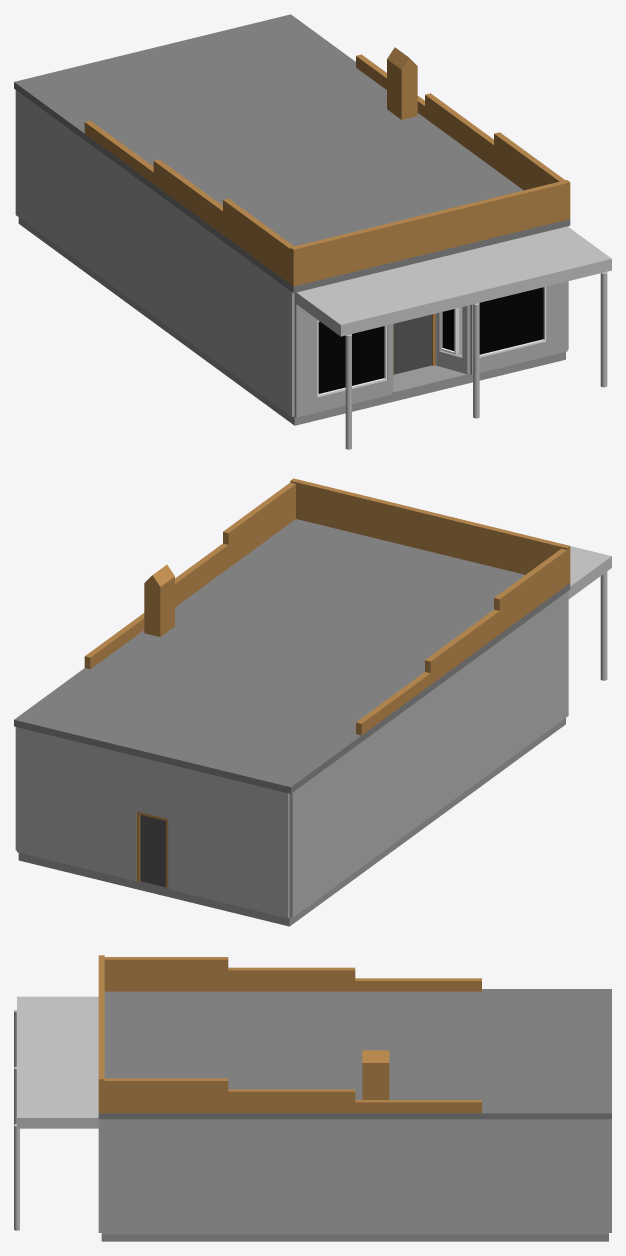
The model's file is building_phase_1b_iter_011.glb.
3 renders of one model, top to bottom at view 1: azimuth 30°, elevation 25°; view 2: azimuth 150°, elevation 25°; view 3: azimuth 270°, elevation 25°, orthographic. The views are drawn at different scales.
Parts seen in each view (by area): view 1: Roof, Wall_Left, Canopy_Roof, Parapet_Front, Wall_Front, Foundation, Front_Left_Window_Glass, Front_Right_Window_Glass, Parapet_Left_Level_1, Parapet_Right_Level_1, Parapet_Left_Level_2, Parapet_Right_Level_2 (+9 smaller); view 2: Roof, Wall_Left, Wall_Rear, Parapet_Front, Foundation, Parapet_Left_Level_1, Parapet_Right_Level_1, Parapet_Left_Level_2, Rear_Service_Door_Panel, Parapet_Right_Level_2, Chimney, Canopy_Roof (+3 smaller); view 3: Wall_Right, Roof, Canopy_Roof, Parapet_Right_Level_1, Parapet_Left_Level_1, Foundation, Parapet_Left_Level_2, Parapet_Right_Level_2, Parapet_Left_Level_3, Parapet_Right_Level_3, Parapet_Front, Chimney (+2 smaller).
Boxes of the visible parts, box(x1,y1,x2,y2) form: Roof: box(14, 14, 570, 293); Wall_Left: box(15, 90, 294, 416); Canopy_Roof: box(296, 226, 611, 336); Parapet_Front: box(290, 180, 570, 286); Wall_Front: box(294, 281, 567, 417); Foundation: box(18, 217, 565, 425); Front_Left_Window_Glass: box(318, 321, 384, 393); Front_Right_Window_Glass: box(479, 287, 543, 354); Parapet_Left_Level_1: box(223, 198, 293, 283); Parapet_Right_Level_1: box(494, 132, 564, 190); Parapet_Left_Level_2: box(153, 159, 222, 234); Parapet_Right_Level_2: box(425, 93, 493, 168); Roof: box(14, 519, 570, 793); Wall_Left: box(289, 591, 568, 917); Wall_Rear: box(17, 727, 289, 918); Parapet_Front: box(290, 478, 570, 584); Foundation: box(18, 718, 565, 926); Parapet_Left_Level_1: box(494, 548, 567, 633); Parapet_Right_Level_1: box(223, 482, 295, 567); Parapet_Left_Level_2: box(425, 609, 499, 684); Rear_Service_Door_Panel: box(140, 815, 165, 887); Parapet_Right_Level_2: box(175, 543, 228, 606); Chimney: box(144, 576, 174, 636); Canopy_Roof: box(568, 546, 611, 598); Wall_Right: box(101, 1119, 608, 1234); Roof: box(98, 989, 611, 1119); Canopy_Roof: box(17, 996, 101, 1128); Parapet_Right_Level_1: box(101, 1078, 228, 1113); Parapet_Left_Level_1: box(104, 957, 228, 991); Foundation: box(101, 1234, 608, 1241); Parapet_Left_Level_2: box(228, 967, 355, 991); Parapet_Right_Level_2: box(228, 1089, 355, 1113); Parapet_Left_Level_3: box(355, 978, 481, 991); Parapet_Right_Level_3: box(355, 1100, 481, 1113); Parapet_Front: box(98, 955, 104, 1113); Chimney: box(362, 1063, 389, 1099).
Size of the model in its own units: 8.68 by 6.03 by 17.68.
